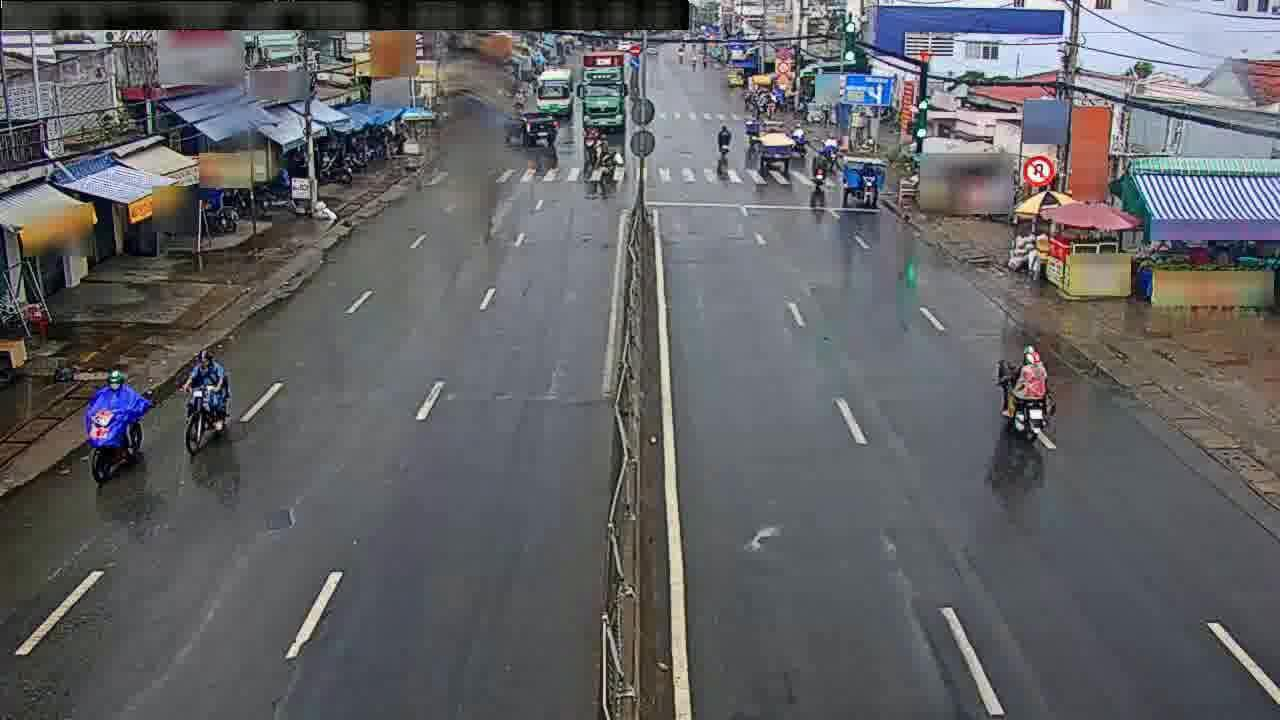container: (502, 112, 553, 142)
motorbike: (172, 351, 242, 459), (83, 368, 143, 484), (995, 338, 1057, 448), (804, 145, 828, 192), (583, 122, 602, 163), (713, 120, 730, 161)
